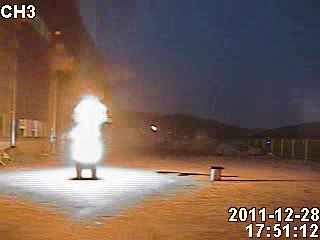fire: (61, 96, 107, 164)
